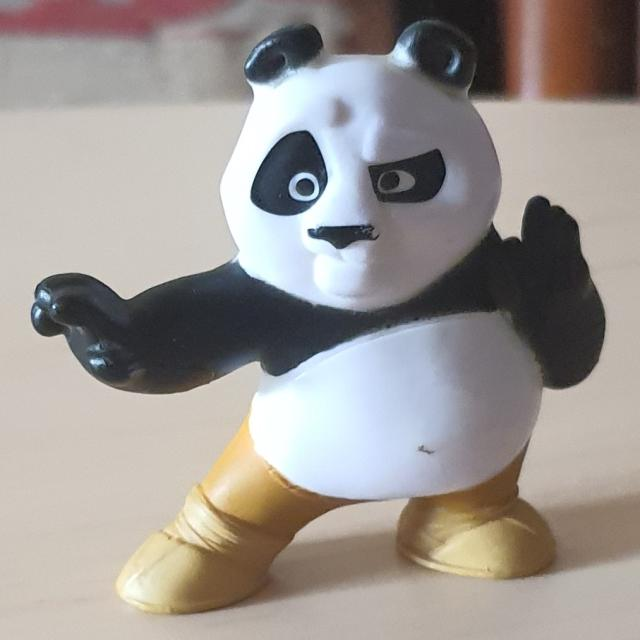Panda: (31, 20, 605, 612)
